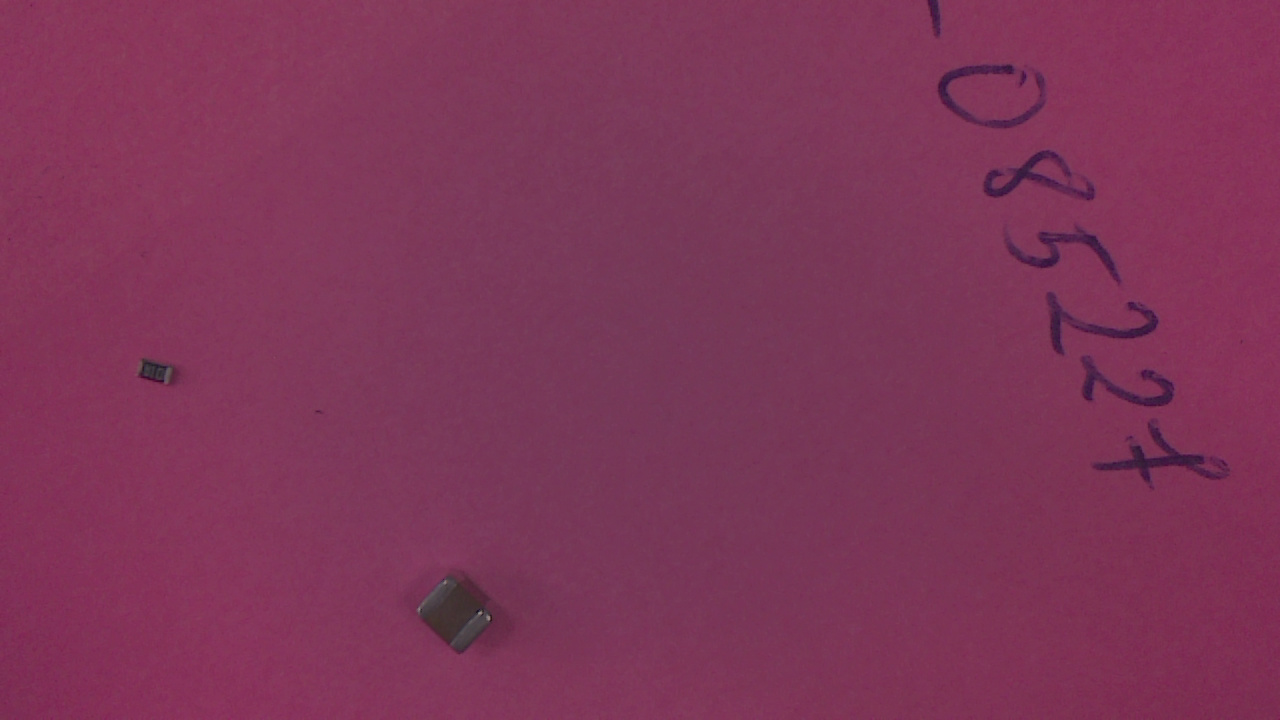Condensator: (422, 584, 499, 659)
Resistor: (141, 364, 181, 391)
